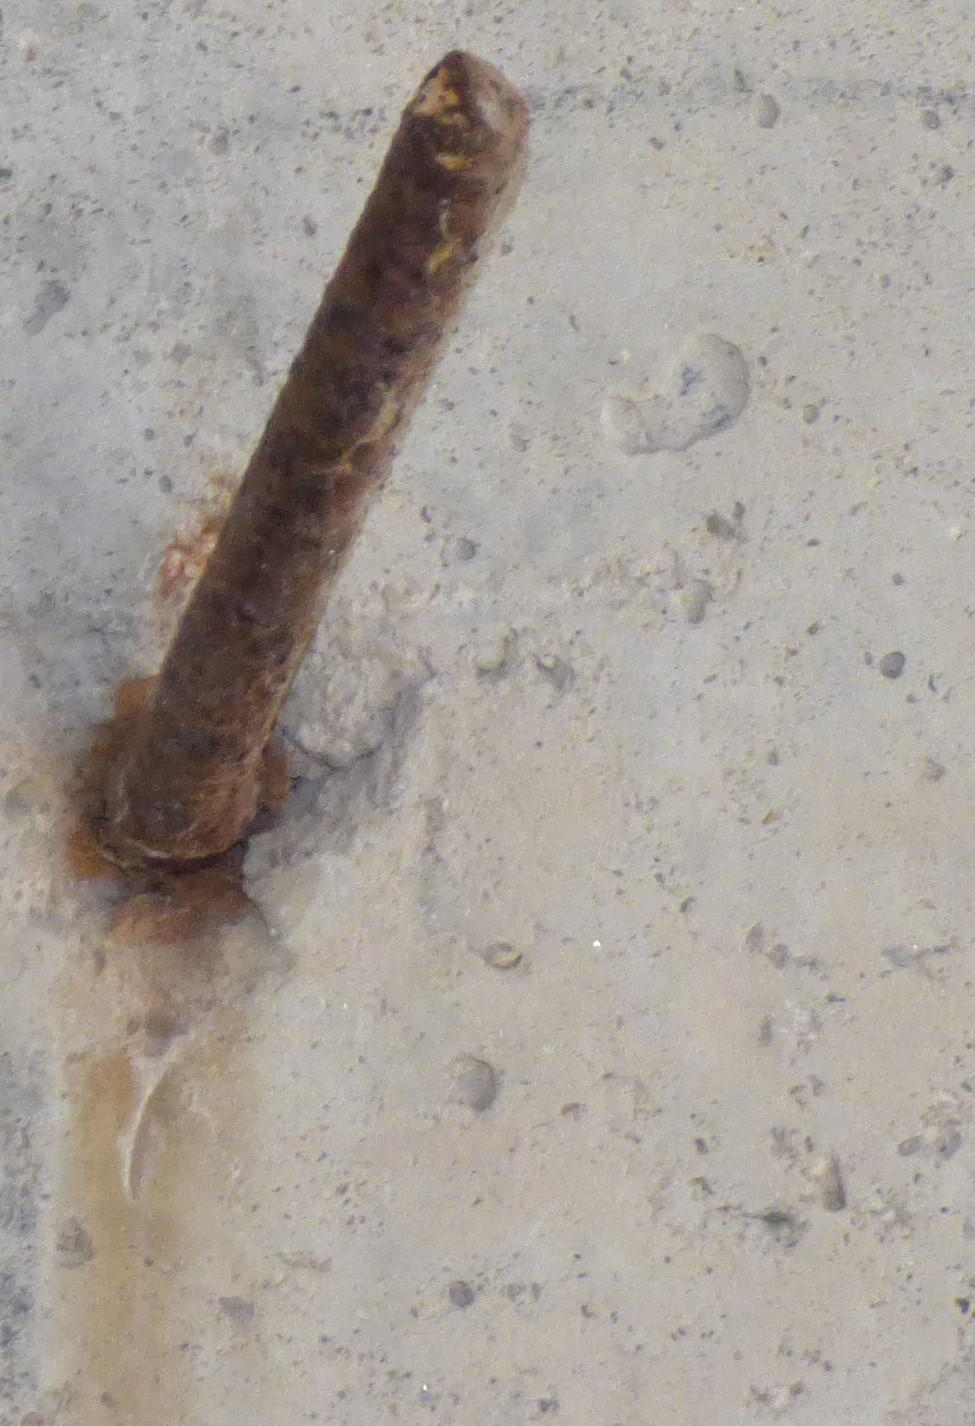Exposed reinforcement: (104, 50, 529, 861)
